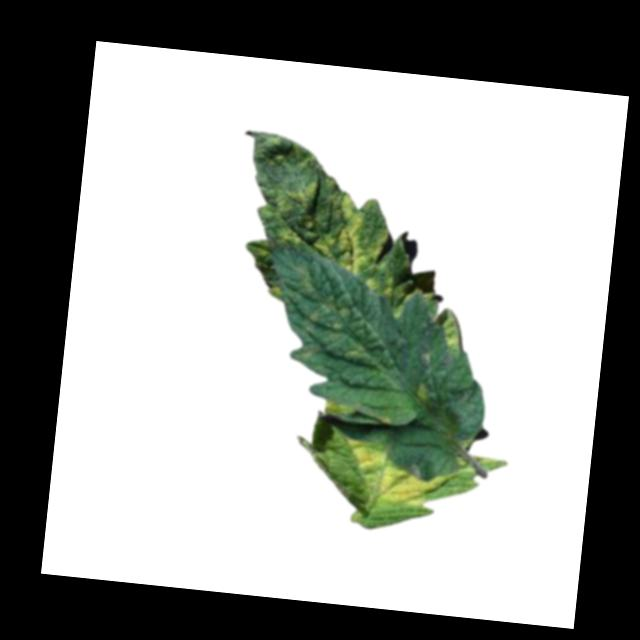Leaf_Mold: (282, 265, 406, 378), (340, 437, 454, 511), (329, 191, 393, 279)
